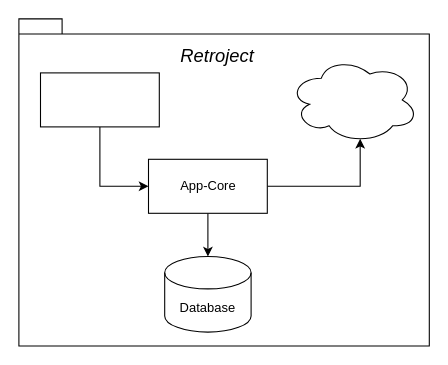
This 448x365 diagram has some shape labels left out. The shapes that lost their labels are listed below. From the top down, each one's box as (x1, y1, x2, y2) in pixels, then its label:
(39, 72, 159, 127): Web-Server
(288, 56, 418, 143): 3rd Party Integrations
